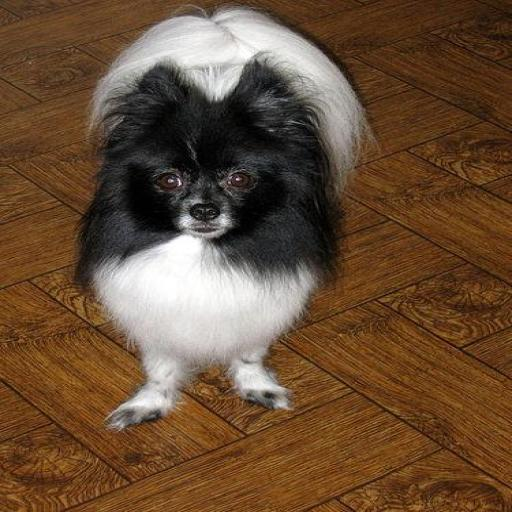dog_face: (104, 76, 304, 246)
